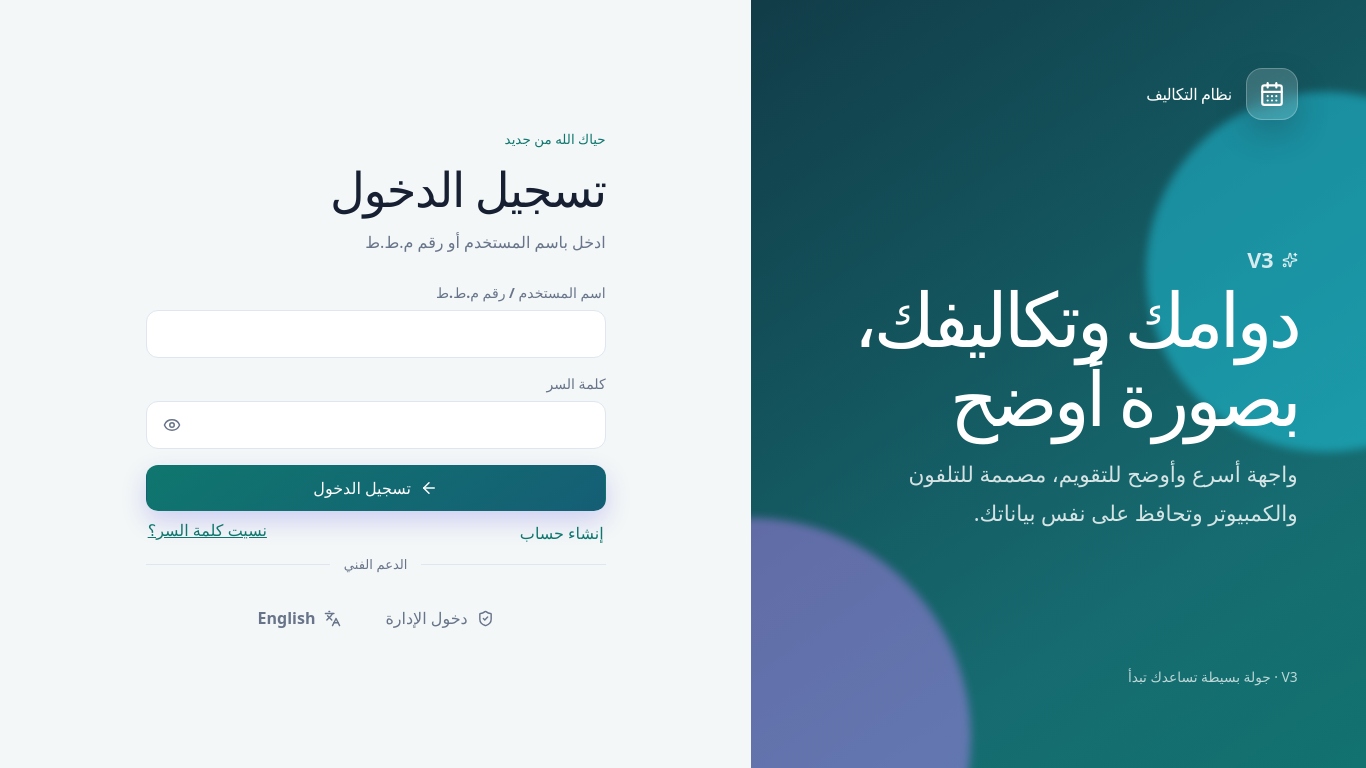
it: V2 application shell › shows a service failure in Arabic on the login form
Type "synthetic" into the field labelled "اسم المستخدم / رقم م.ط.ط" at (376, 334), box [146,310,606,358]
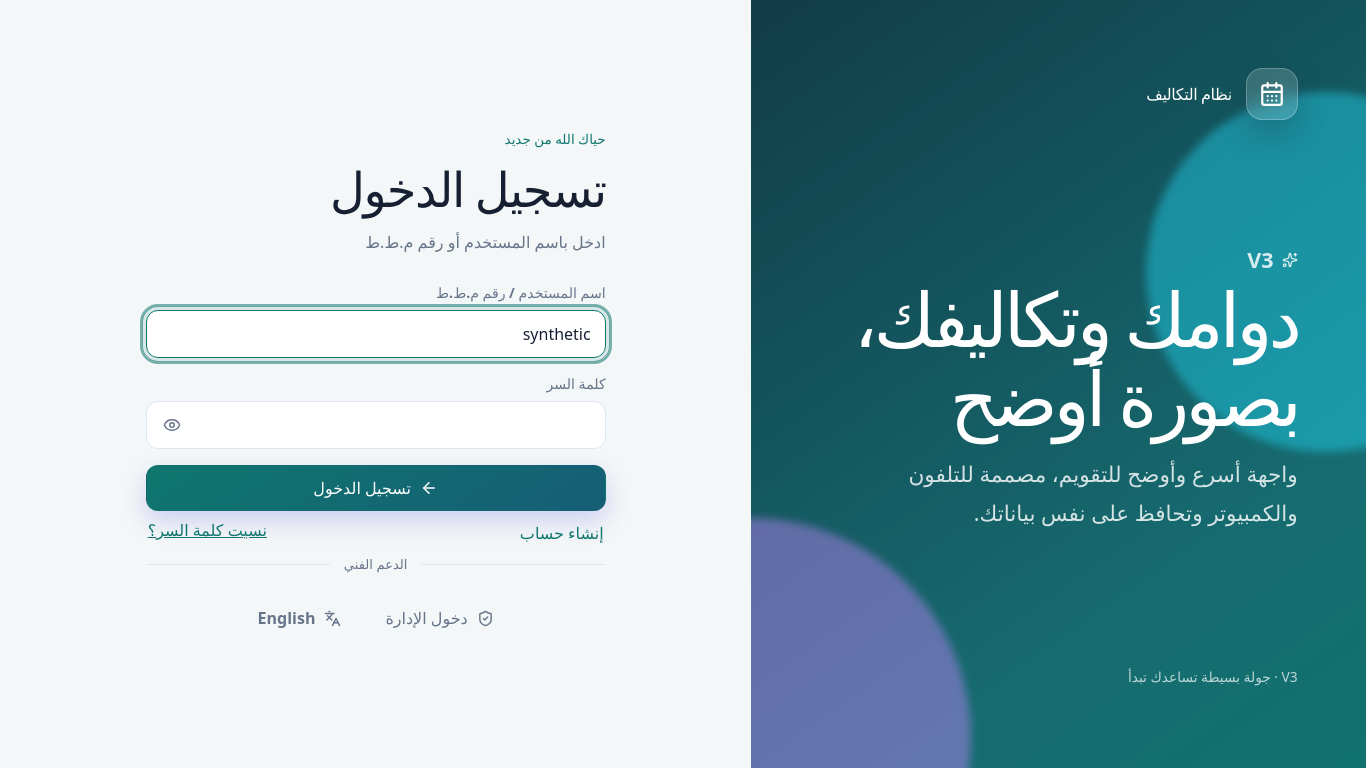
Type "synthetic-password" into the password field labelled "كلمة السر" at (376, 425), box [146,401,606,449]
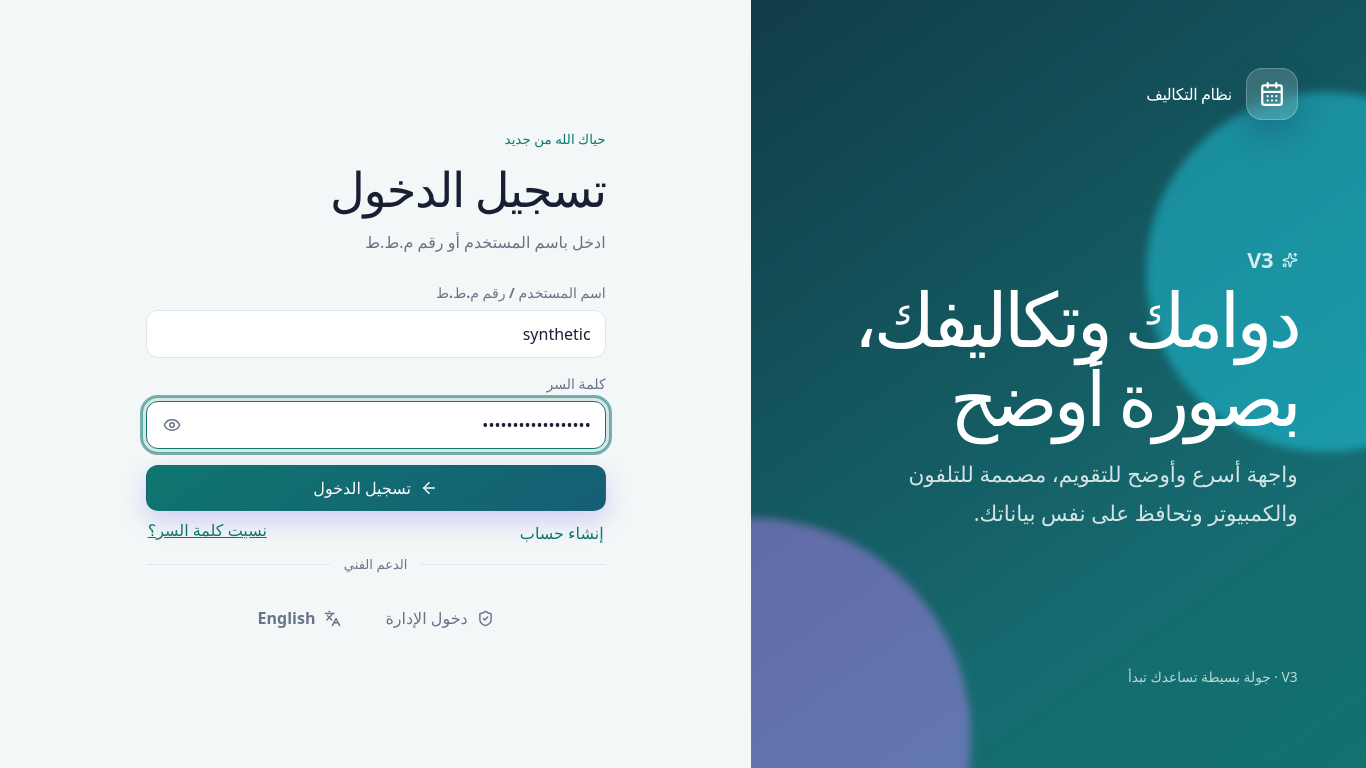
Click the button "تسجيل الدخول" at (376, 488), box [146,465,606,511]
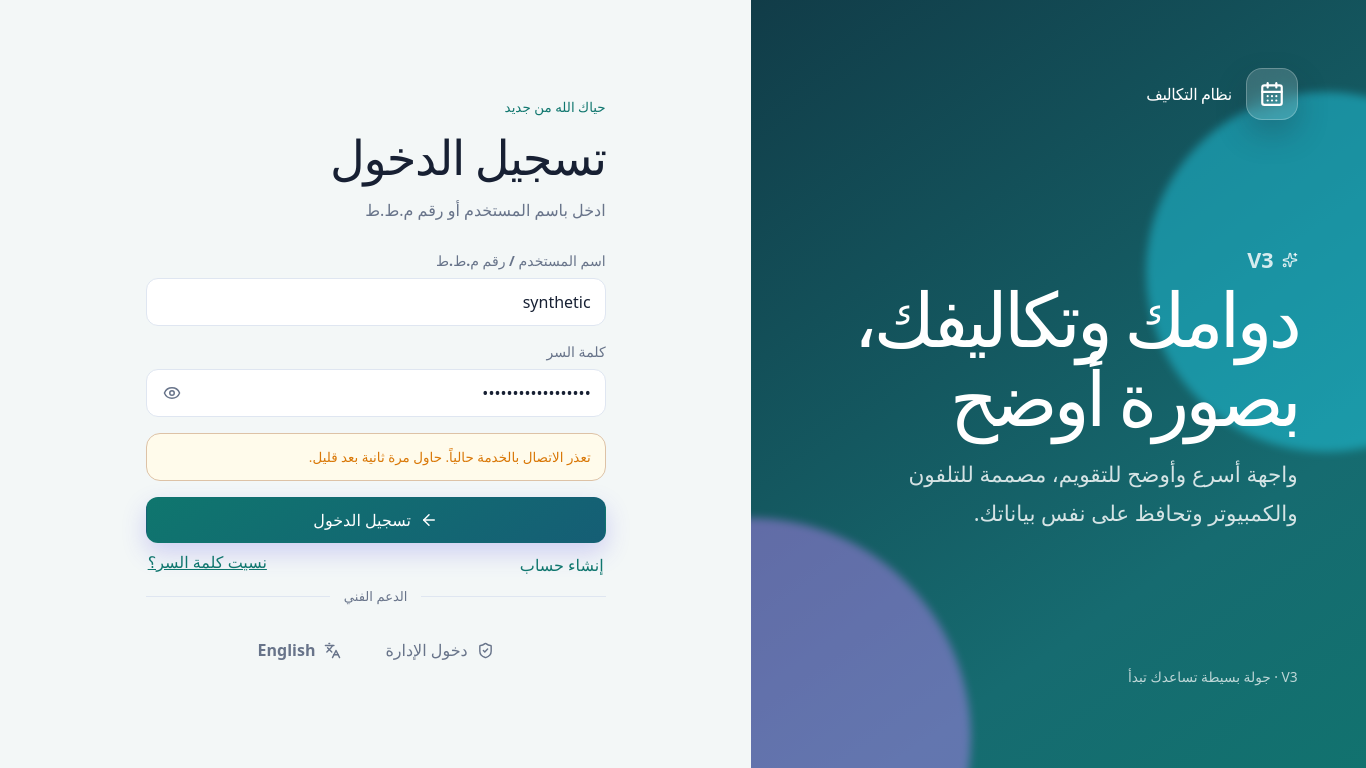
Check: the message shows "تعذر الاتصال بالخدمة حالياً", box [309,448,591,466]
